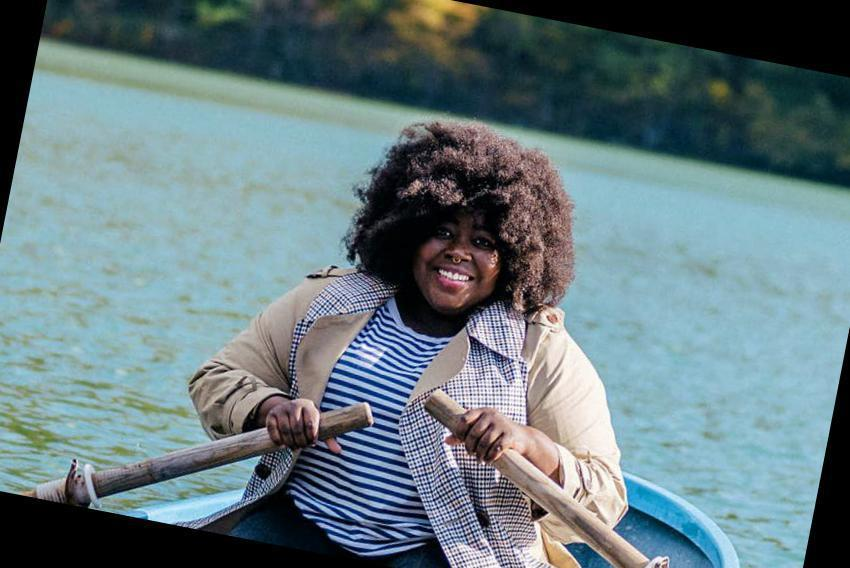Sober: (423, 212, 497, 304)
